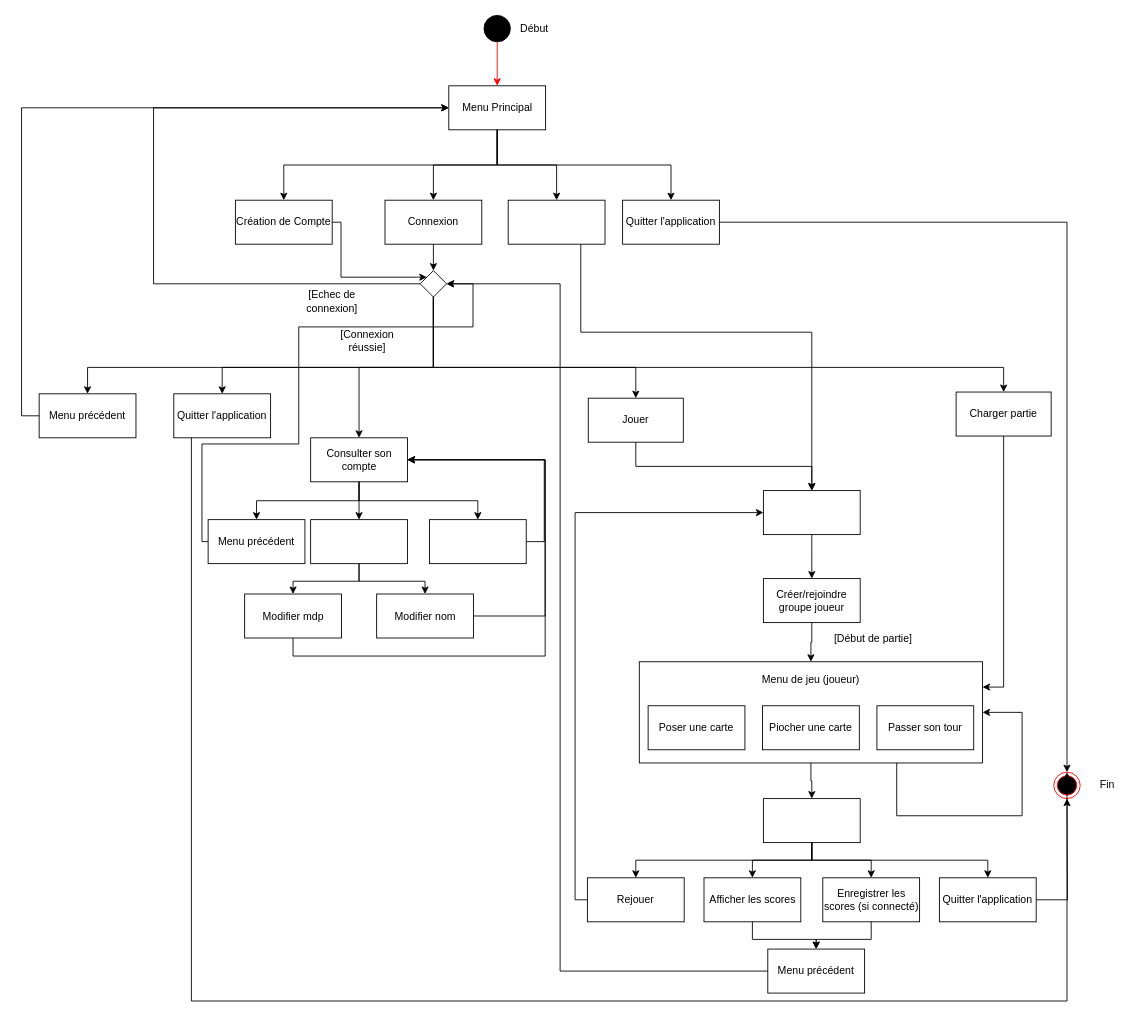
The diagram is 1140 pixels wide and 1023 high, and some of its shapes have lost their labels. Here are the shapes that lost their labels. From the top down, the centre of each, then its label:
pixel 556 221: Jouer en tant qu'invité
pixel 811 512: Sélection de jeu
pixel 358 541: Modifier son compte
pixel 477 541: Afficher ses statistiques
pixel 811 820: Menu de fin de partie
